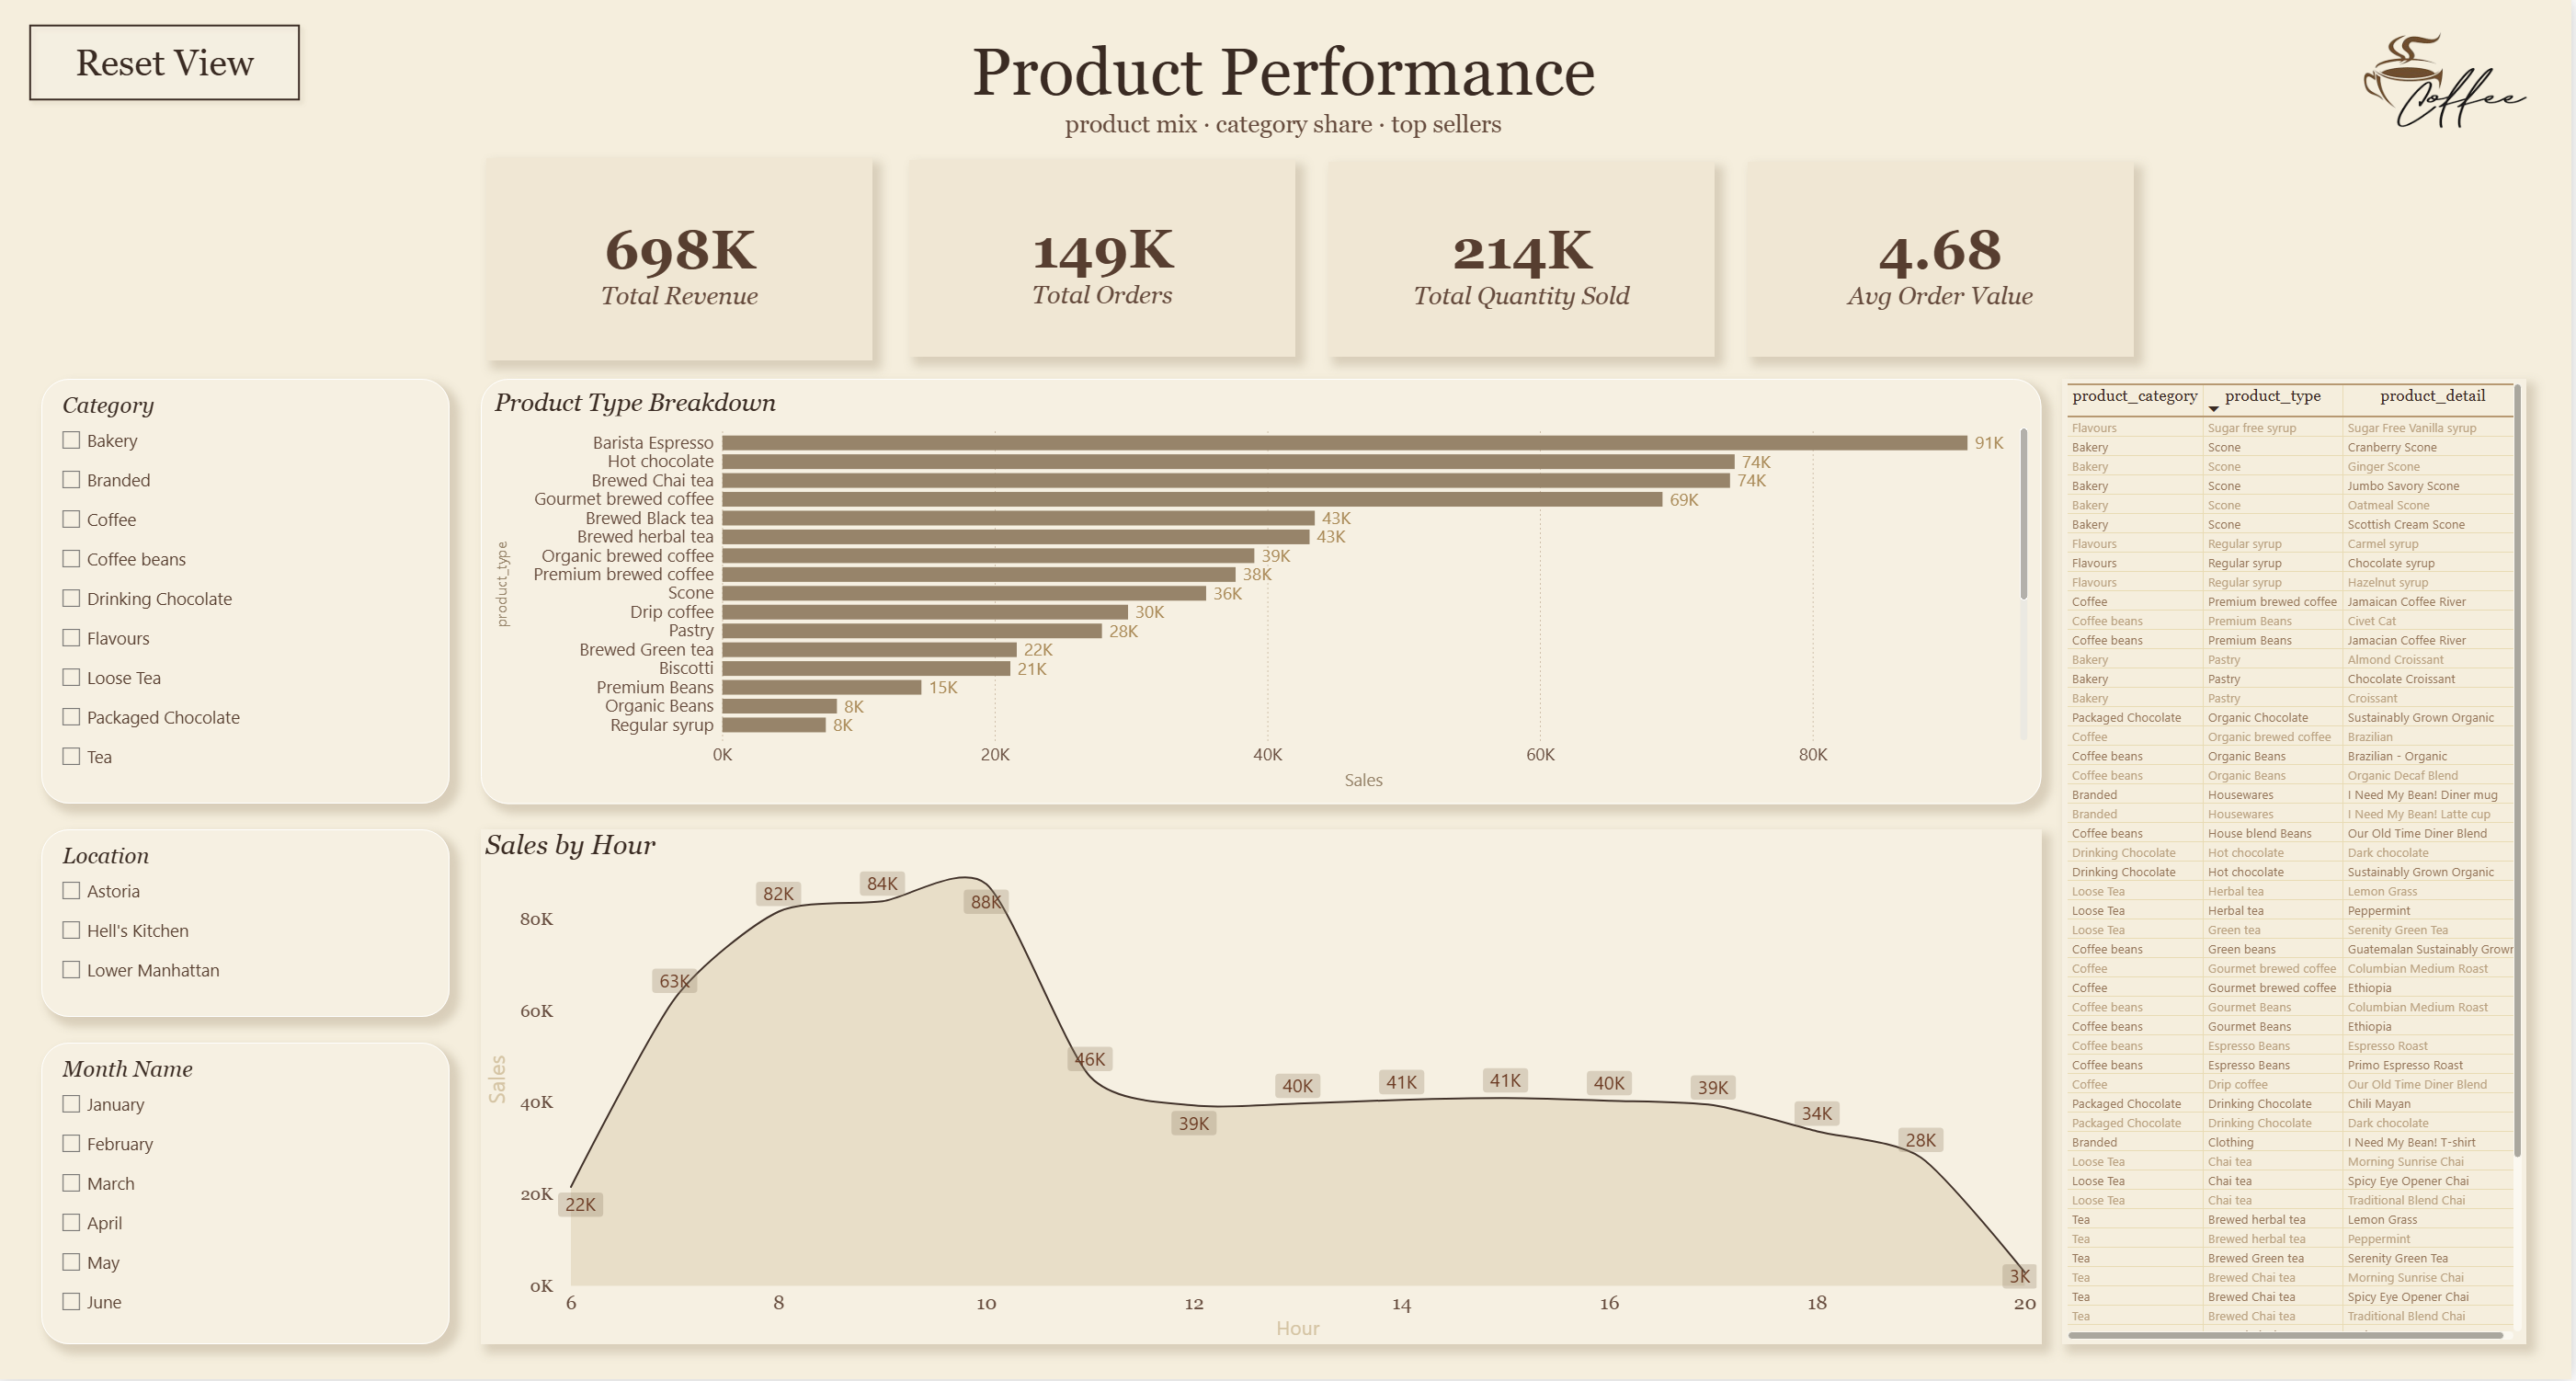

The page's visual inventory and layout, read from the dashboard file:
{"tool":"powerbi","page":{"name":"Product Performance","canvas":[2800,1500],"ordinal":2},"visuals":[{"type":"textbox","box":[684,32,1430,142],"z":0},{"type":"barChart","title":"Product Type Breakdown","fields":{"Category":["Project.product_type"],"Y":["Project.Total Sales"]},"box":[525,412.5,1697.5,462.5],"z":1000},{"type":"slicer","fields":{"Values":["Project.Month Name"]},"box":[48,1134,444,328],"z":2000},{"type":"slicer","fields":{"Values":["Project.store_location"]},"box":[48,902,444,204],"z":3000},{"type":"slicer","fields":{"Values":["Project.product_category"]},"box":[48,412,444,462],"z":4000},{"type":"image","box":[2526,0,274,174],"z":5000},{"type":"card","fields":{"Values":["Project.Total Revenue"]},"box":[532,172,420,220],"z":6000},{"type":"card","fields":{"Values":["Project.Total Orders"]},"box":[992,174,420,214],"z":7000},{"type":"card","fields":{"Values":["Project.Total Quantity Sold"]},"box":[1448,176,420,212],"z":8000},{"type":"card","fields":{"Values":["Project.Avg Order Value"]},"box":[1904,176,420,212],"z":9000},{"type":"lineChart","fields":{"Y":["Project.Total Sales"],"Category":["Project.Hour"]},"box":[525,902.5,1697.5,560],"z":10000},{"type":"actionButton","box":[26,18,312,100],"z":11000},{"type":"tableEx","fields":{"Values":["Project.product_category Hierarchy.product_category","Project.product_type","Project.product_detail"]},"box":[2245,412.5,505,1050],"z":12000}]}

Visuals, with their boxes in screenshot pixels (x1, y1, x2, y2), scaled from the page's 2800x1500 canvas onto the 2576x1381 screenshot:
textbox: region(629, 29, 1945, 160)
"Product Type Breakdown" barChart: region(483, 380, 2045, 805)
slicer - Project.Month Name: region(44, 1044, 452, 1346)
slicer - Project.store_location: region(44, 830, 452, 1018)
slicer - Project.product_category: region(44, 380, 452, 805)
image: region(2324, 0, 2575, 160)
card - Project.Total Revenue: region(489, 158, 876, 361)
card - Project.Total Orders: region(913, 160, 1299, 358)
card - Project.Total Quantity Sold: region(1332, 162, 1718, 358)
card - Project.Avg Order Value: region(1751, 162, 2138, 358)
lineChart - Project.Total Sales x Project.Hour: region(483, 831, 2045, 1346)
actionButton: region(24, 17, 311, 108)
tableEx - Project.product_category Hierarchy.product_category x Project.product_type: region(2066, 380, 2530, 1346)
